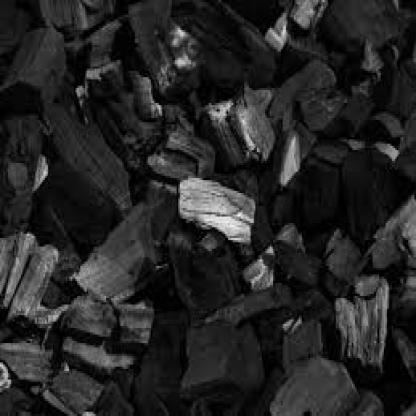Sedimentary_coal: (43, 122, 130, 219), (202, 75, 284, 161), (56, 294, 158, 352), (334, 276, 390, 368), (175, 176, 255, 240), (3, 15, 61, 103), (265, 354, 350, 412), (177, 313, 239, 388), (364, 195, 414, 268), (118, 6, 166, 73)
